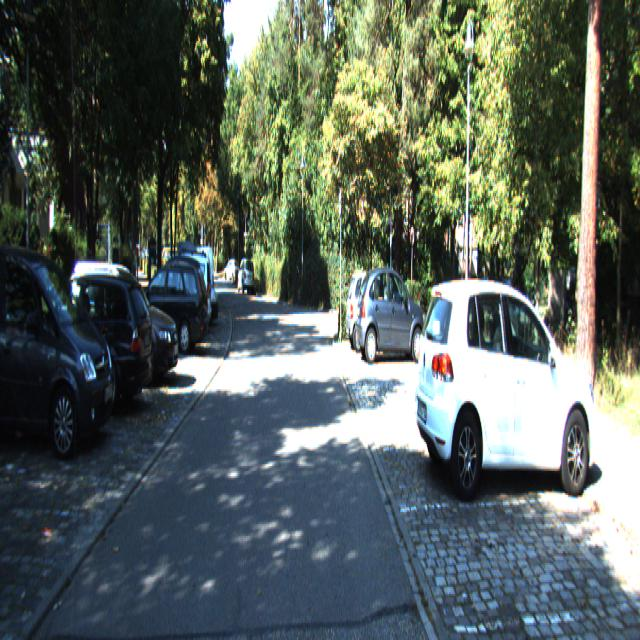Car: (410, 271, 605, 500), (0, 224, 120, 446), (8, 273, 156, 425), (60, 259, 180, 390), (125, 254, 209, 352), (355, 266, 428, 369), (344, 272, 408, 358), (237, 259, 255, 297)
